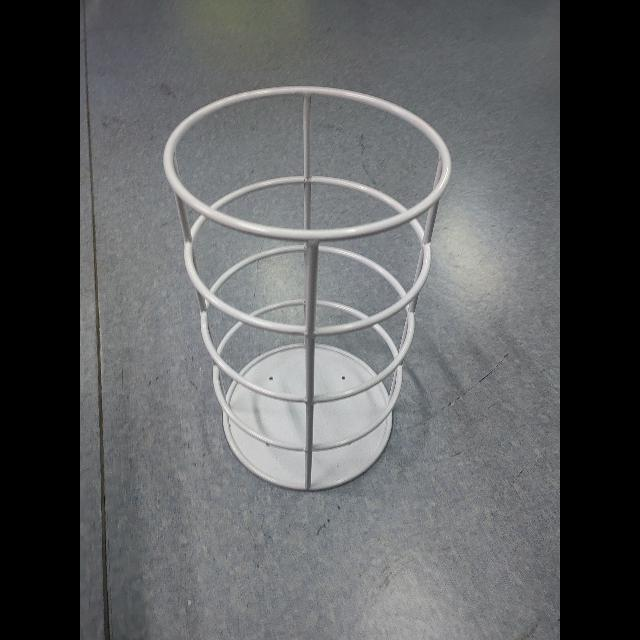S: (159, 82, 457, 494)
